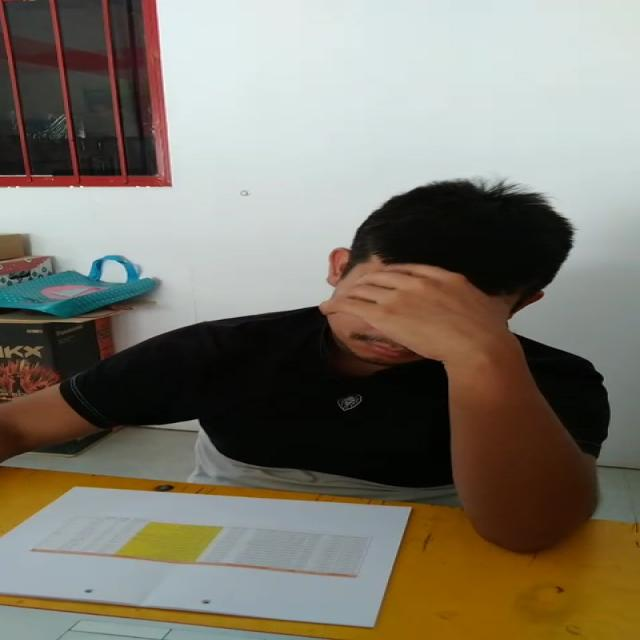7_mano_rostro: (333, 260, 515, 414)
